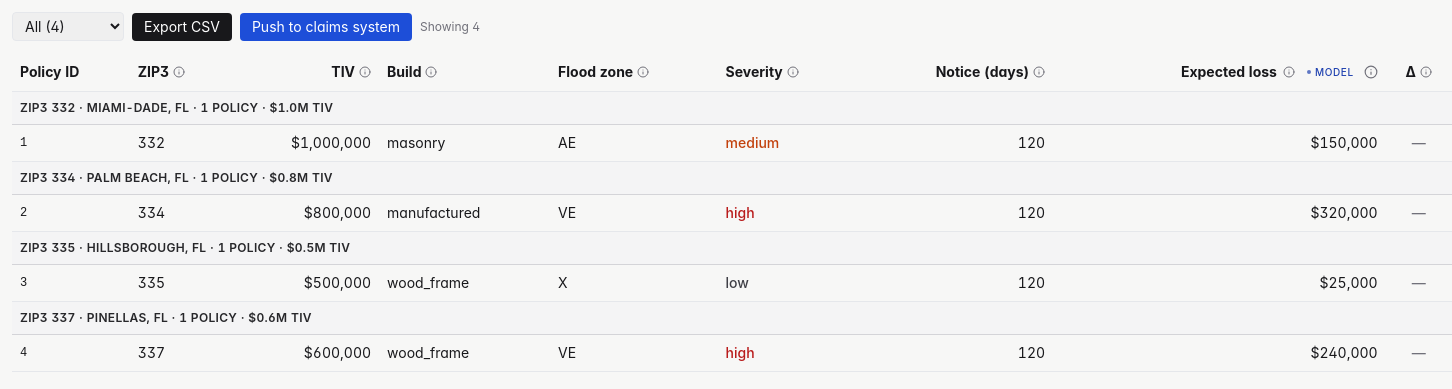
Test: ClaimsTable › push button POSTs visible policy_ids and shows inline confirmation
# Narrow to "high" → only ids 2 and 4 should be visible.
Select "High (2)" in the dropdown named "severity-filter" at (68, 26), box 12,12 -> 124,41
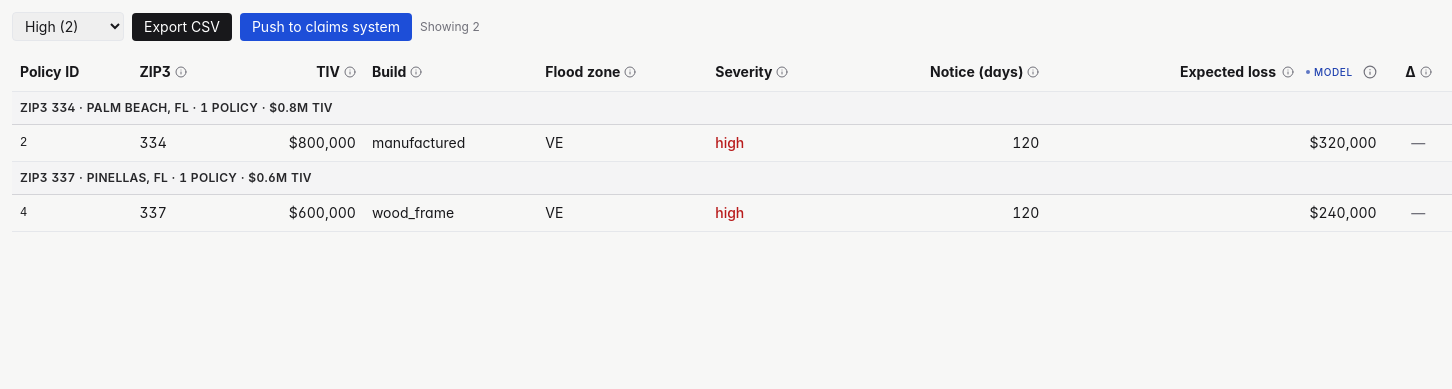
Click the button with test id "push-to-claims".
click(326, 26)  # box 240,12 -> 412,40
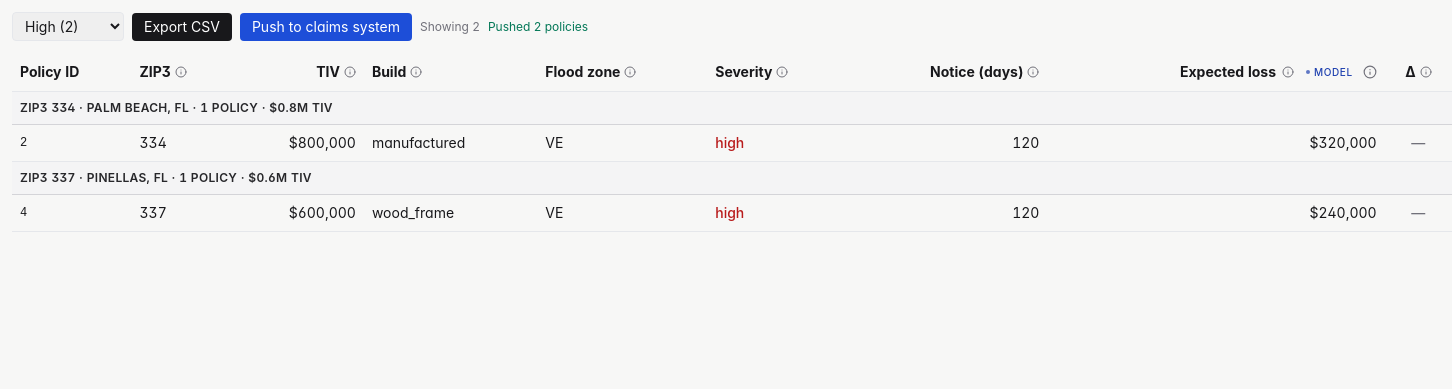
Expected: the message with test id "push-toast" reads "Pushed 2 policies", 488,18 -> 588,34
